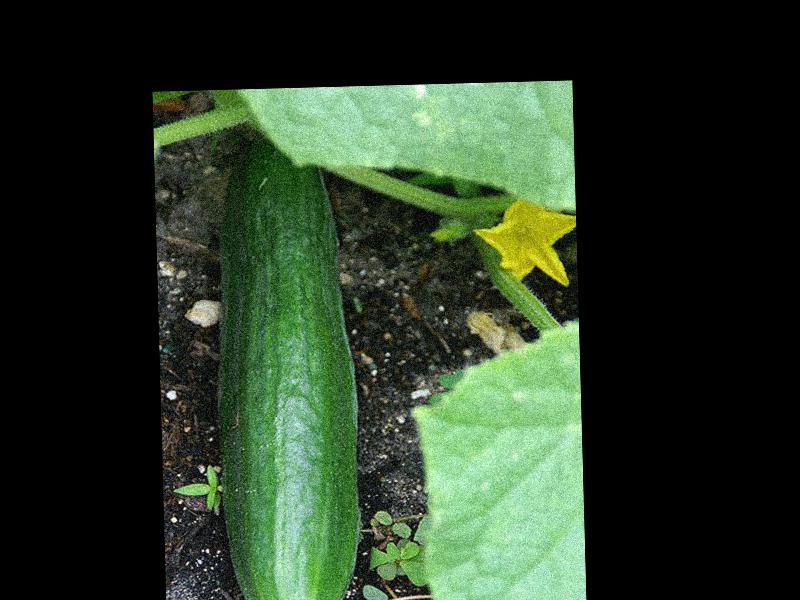Cucumber: (210, 136, 363, 600)
